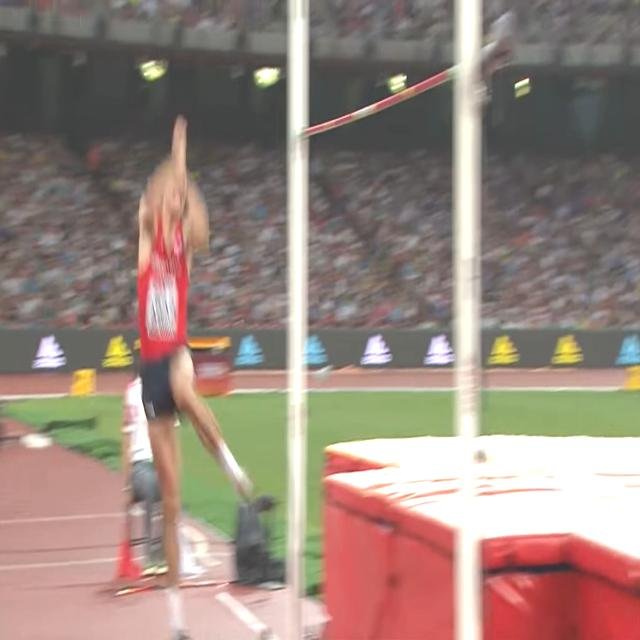jump: (140, 117, 256, 640)
